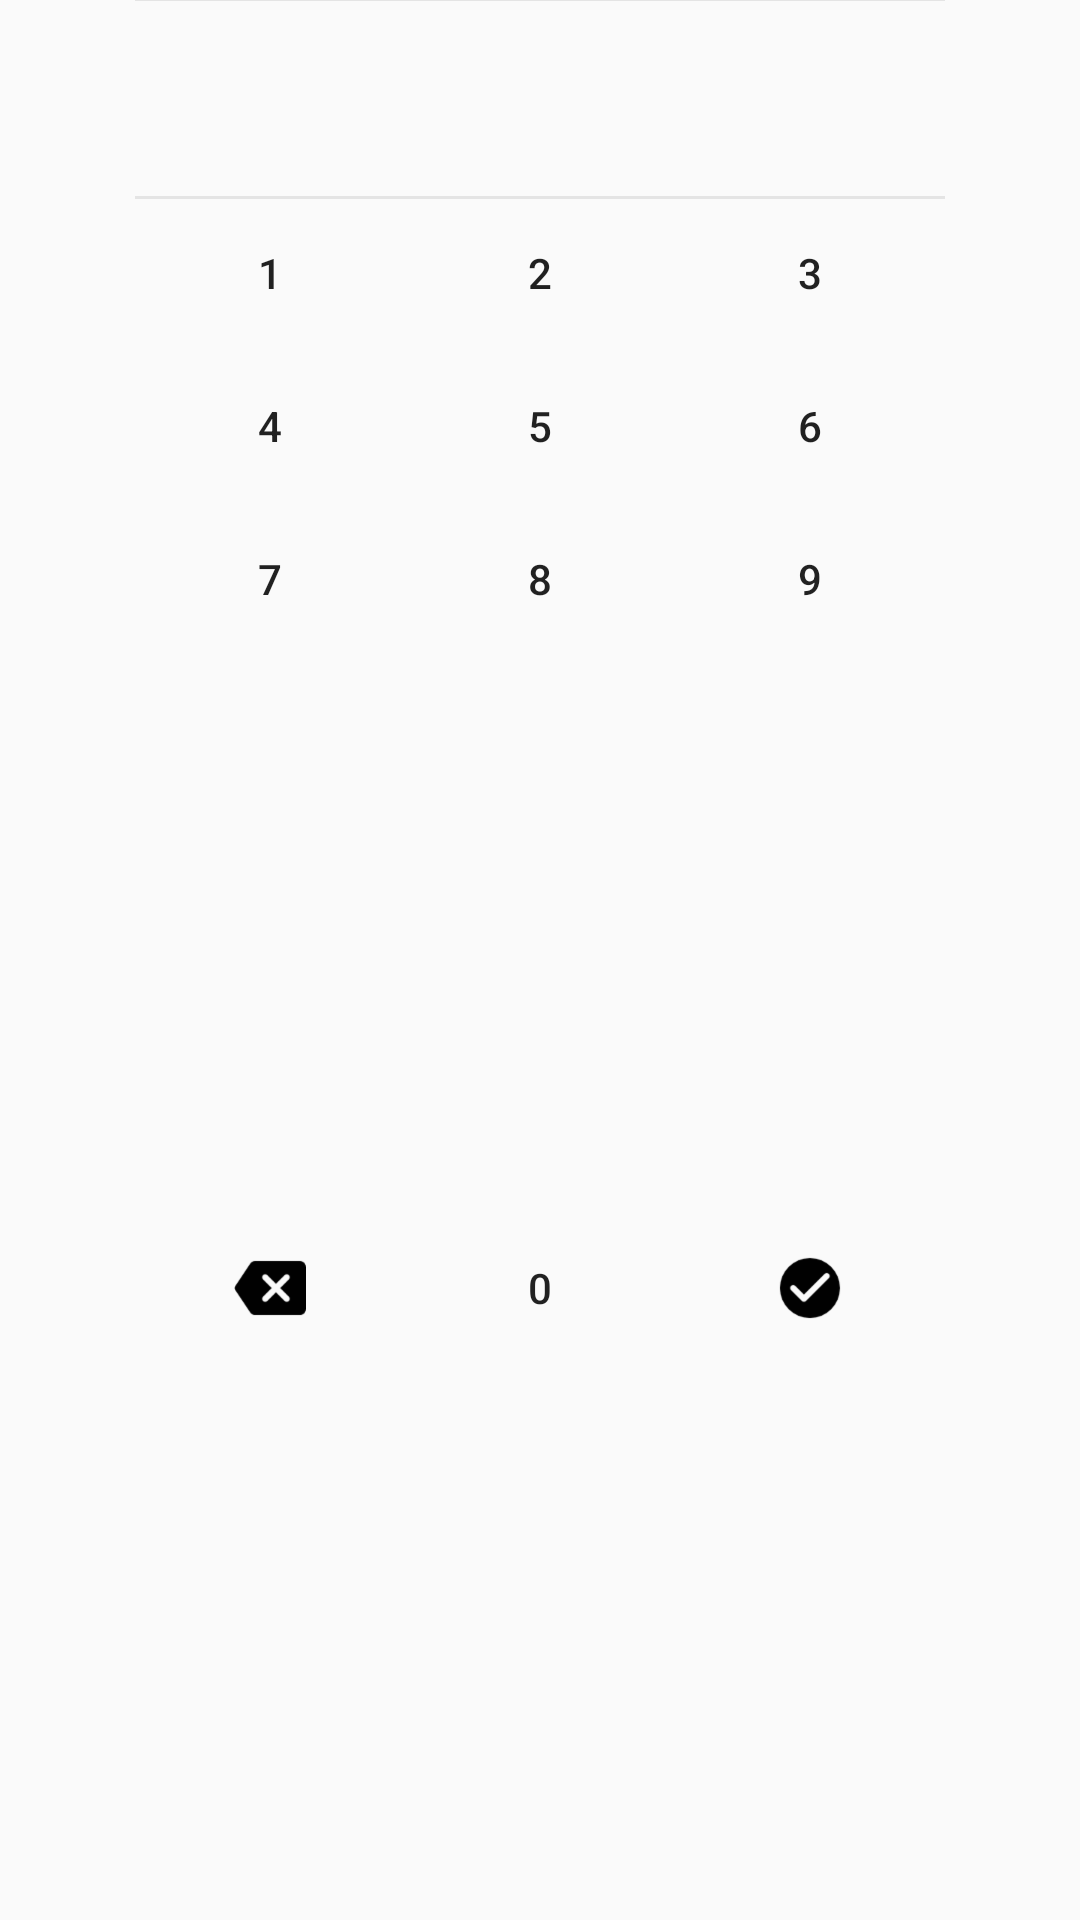

Icon bounding boxes for this 1080w x 1920h phone screenshot, format region(x1, y1, x2, y2):
backspace: region(234, 1261, 306, 1315)
done circle: region(780, 1258, 840, 1318)
